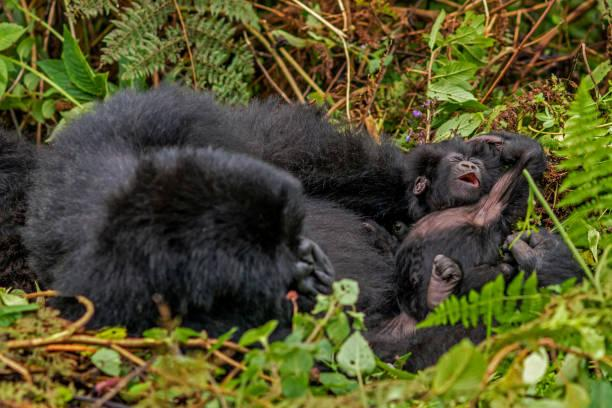goriile_montagne: (19, 50, 414, 368), (411, 119, 559, 321)
